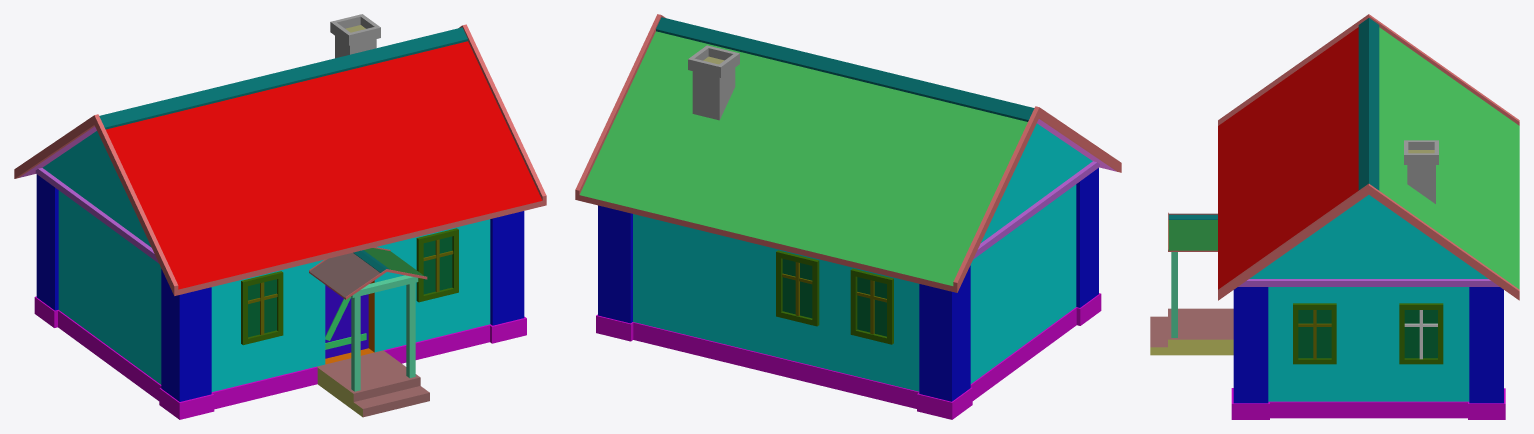
File: Lighthouse_Building_B.fbx
3 renders of one model, left to right at view 1: azimuth 30°, elevation 25°; view 2: azimuth 150°, elevation 25°; view 3: azimuth 270°, elevation 25°, orthographic. The views are drawn at different scales.
Parts seen in each view (by area): view 1: Lighthouse_Building_B; view 2: Lighthouse_Building_B; view 3: Lighthouse_Building_B.
Part boxes in pixels (left/top/right/bottom): Lighthouse_Building_B: left=14, top=14, right=546, bottom=419; Lighthouse_Building_B: left=575, top=14, right=1121, bottom=419; Lighthouse_Building_B: left=1150, top=14, right=1519, bottom=419.
Size of the model in its own units: 927 by 606 by 845.
